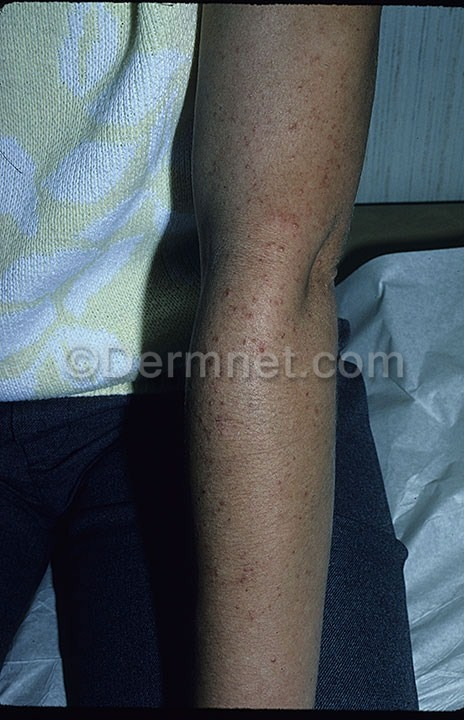Melasma: (219, 7, 341, 346), (194, 385, 284, 625)
